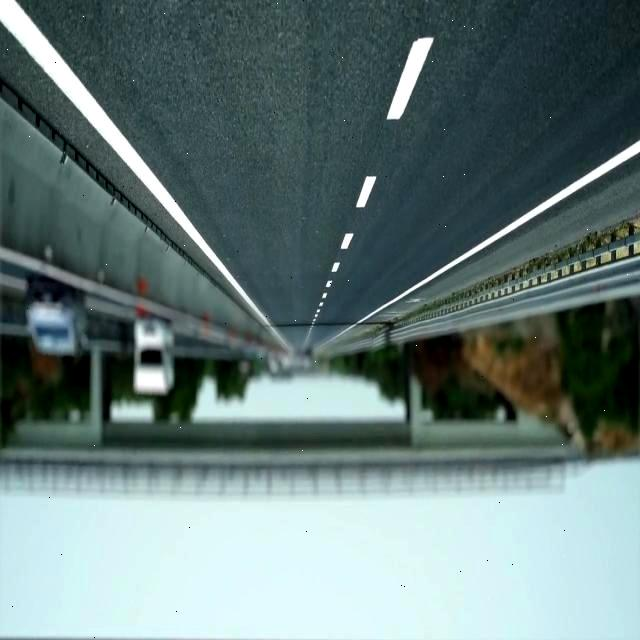lane: (0, 1, 289, 350), (325, 141, 640, 343), (388, 38, 434, 120), (357, 177, 376, 208)
road: (18, 1, 639, 349), (0, 26, 238, 298)
